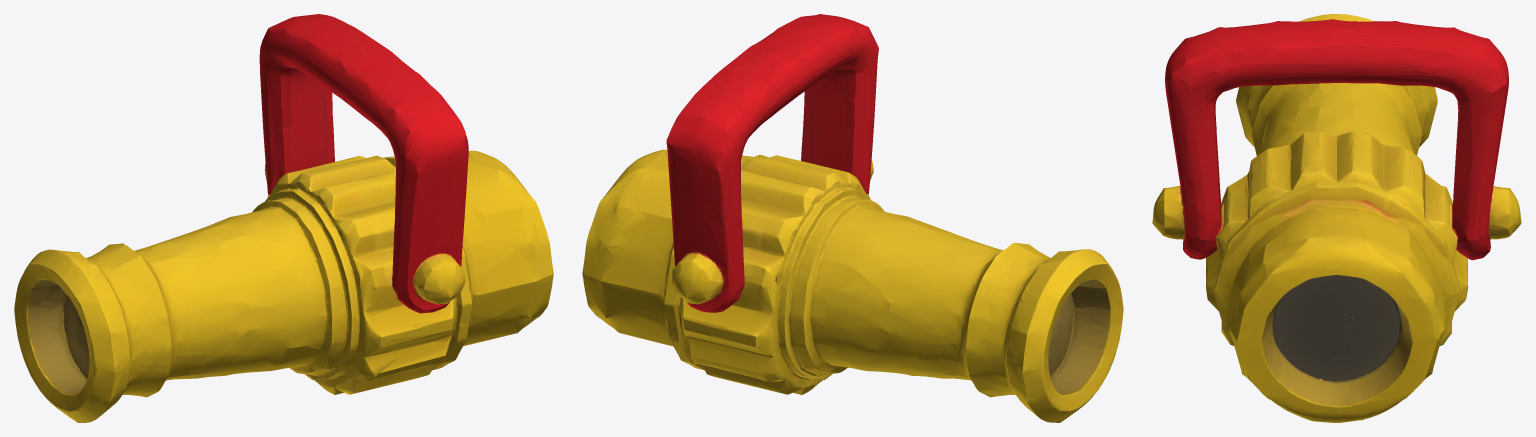
File: nozzle.glb
3 views of the same model, side by side, from view 1: azimuth 30°, elevation 25°; view 2: azimuth 150°, elevation 25°; view 3: azimuth 270°, elevation 25° (orthographic). The views are drawn at different scales.
Bounding box in the file's own units: 1.9 × 1.28 × 1.25.
1 material, 1 textured.
